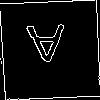A: (25, 25, 67, 72)
